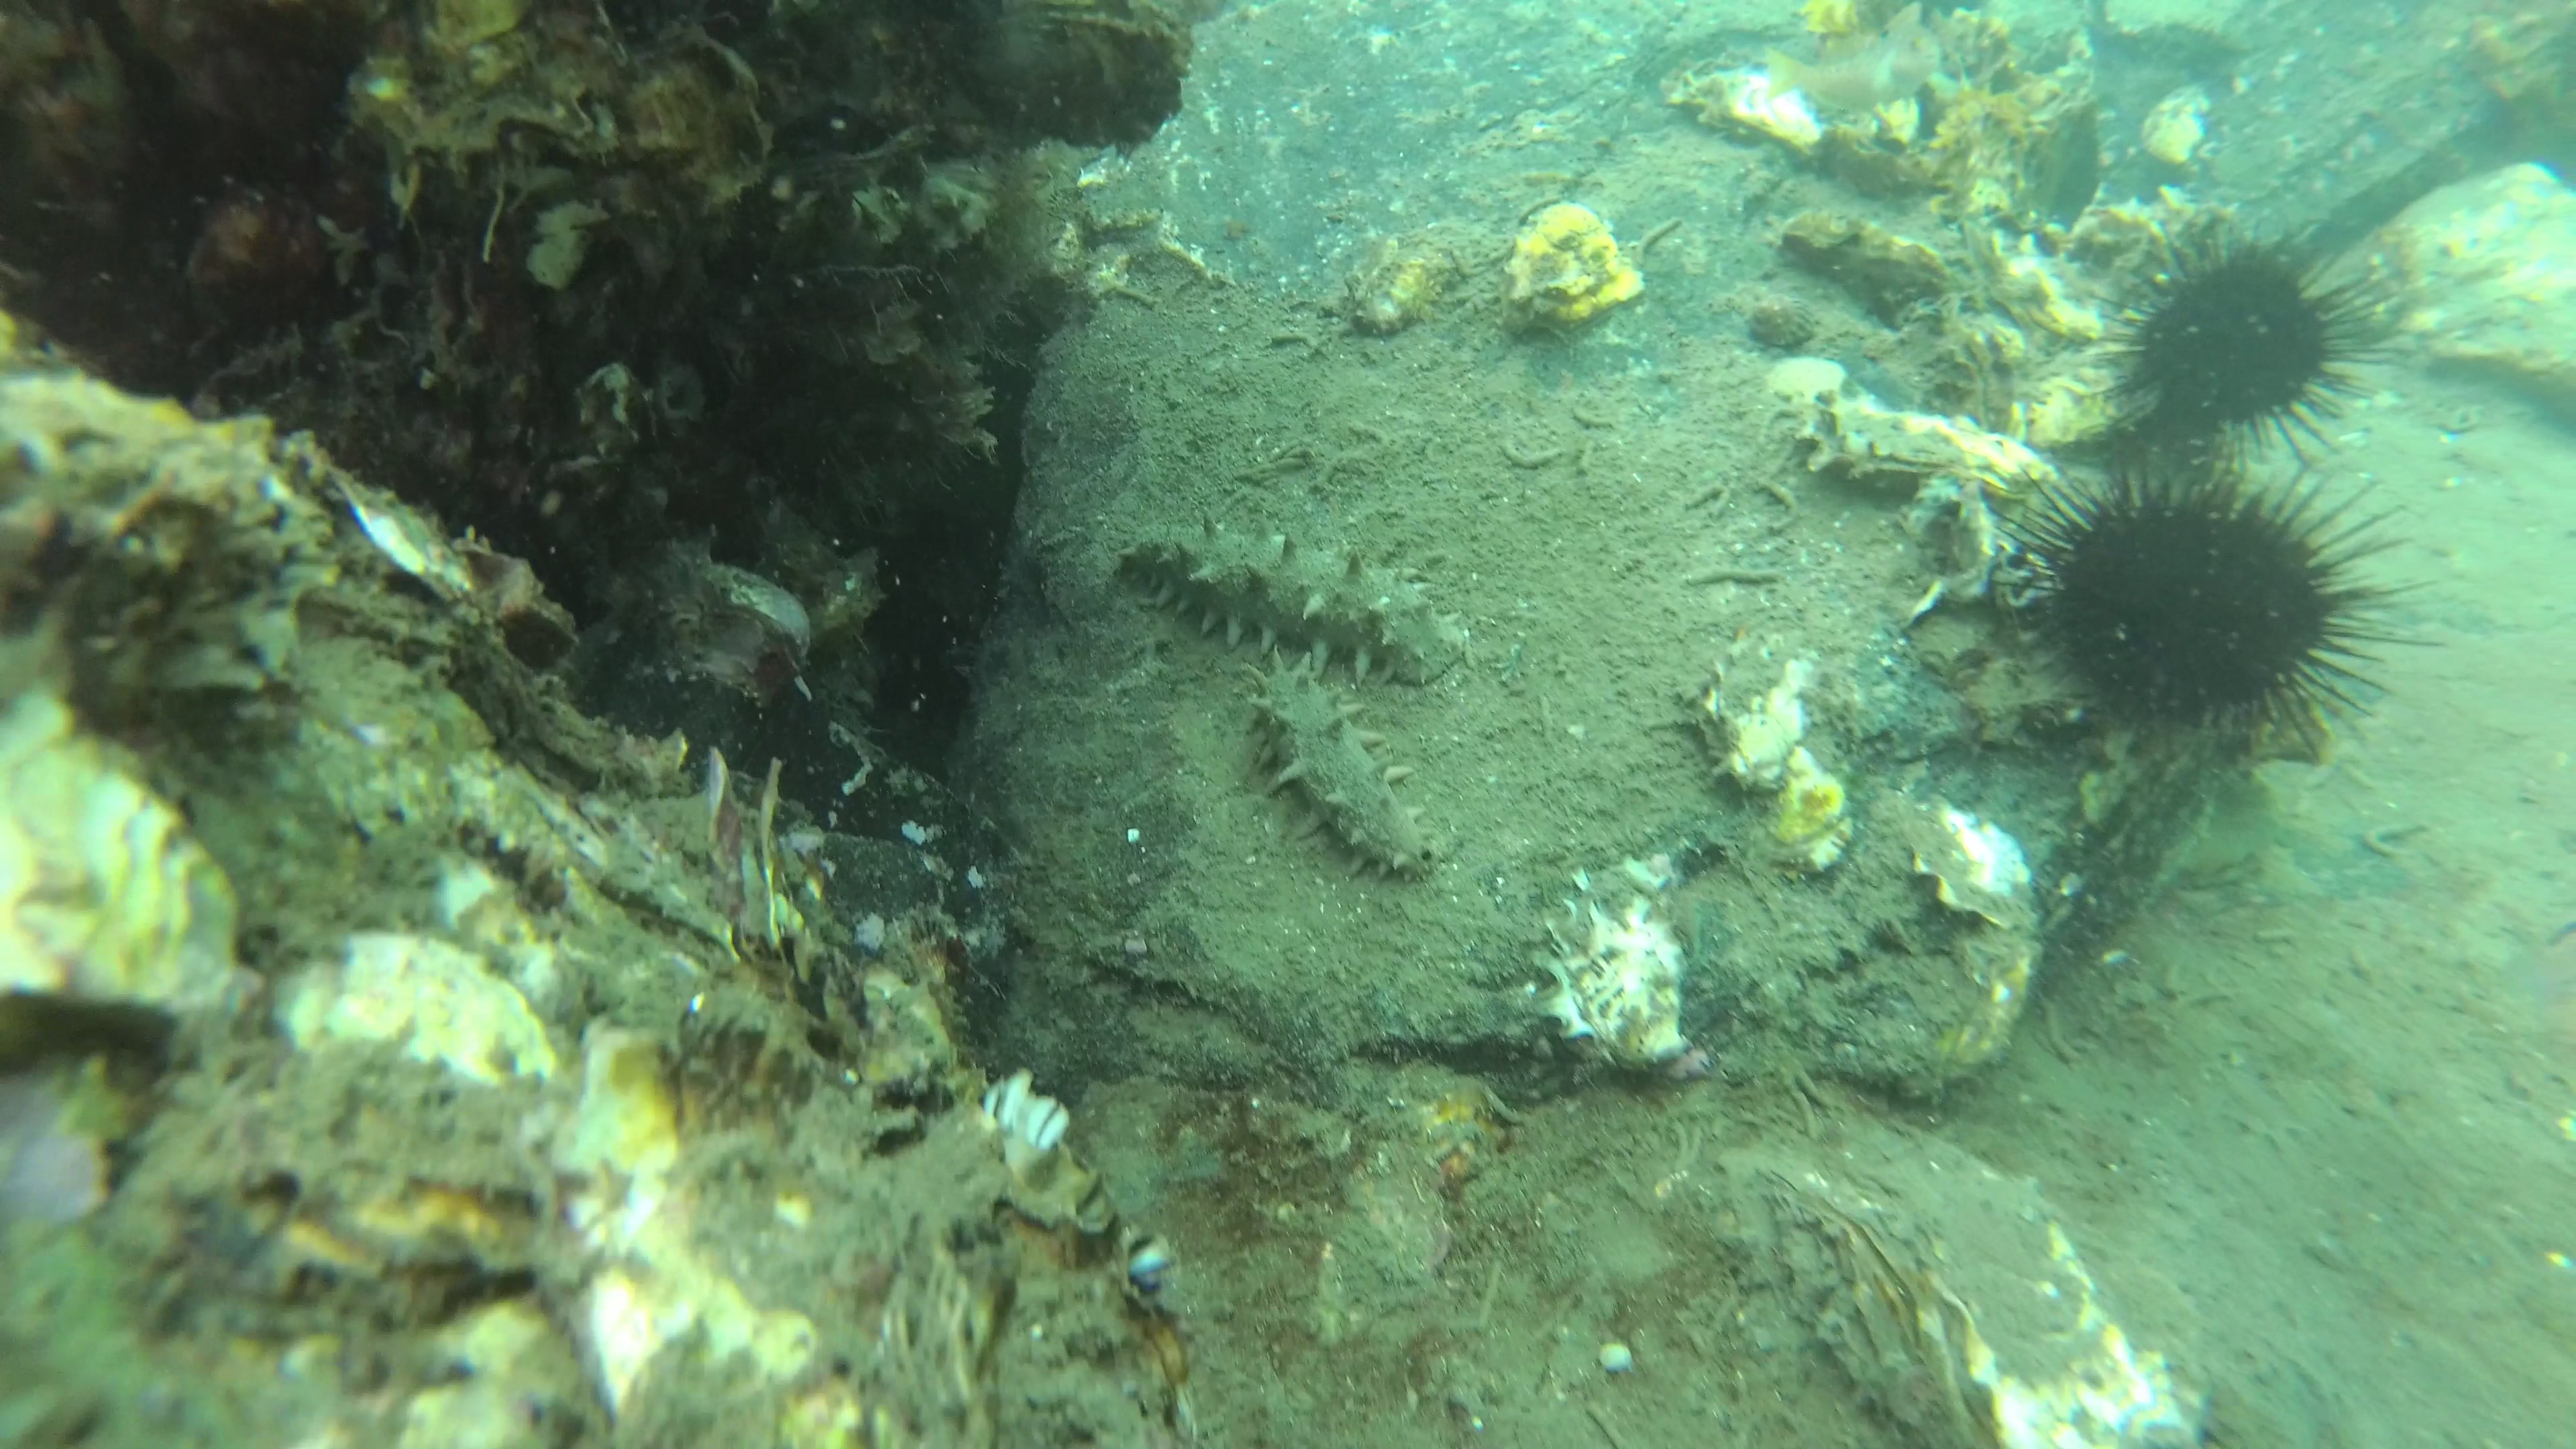echinus: (1987, 456, 2406, 766), (2095, 216, 2385, 451)
holothurian: (1111, 511, 1445, 683), (1244, 639, 1440, 892)
